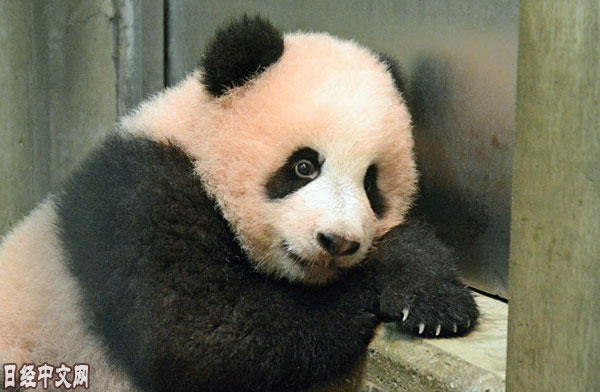panda: (1, 13, 481, 392)
